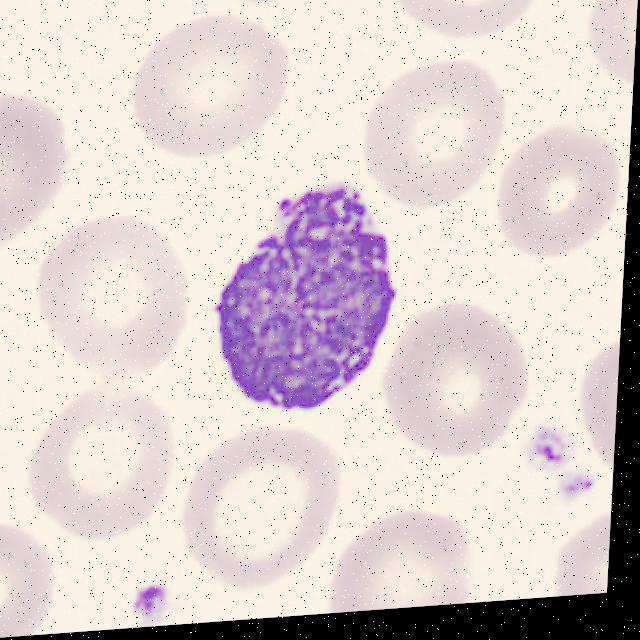platelets: (524, 385, 588, 480), (122, 572, 184, 628), (555, 465, 598, 514)
rbc: (187, 172, 404, 420), (171, 410, 352, 588), (27, 205, 202, 388), (122, 2, 306, 169), (12, 376, 190, 544), (348, 52, 511, 223), (382, 289, 535, 466), (495, 110, 631, 259), (325, 492, 484, 614), (0, 75, 73, 248), (0, 502, 65, 640), (375, 0, 563, 45), (539, 504, 611, 598), (579, 342, 620, 473), (584, 0, 640, 92), (200, 0, 307, 19), (0, 340, 3, 451)
